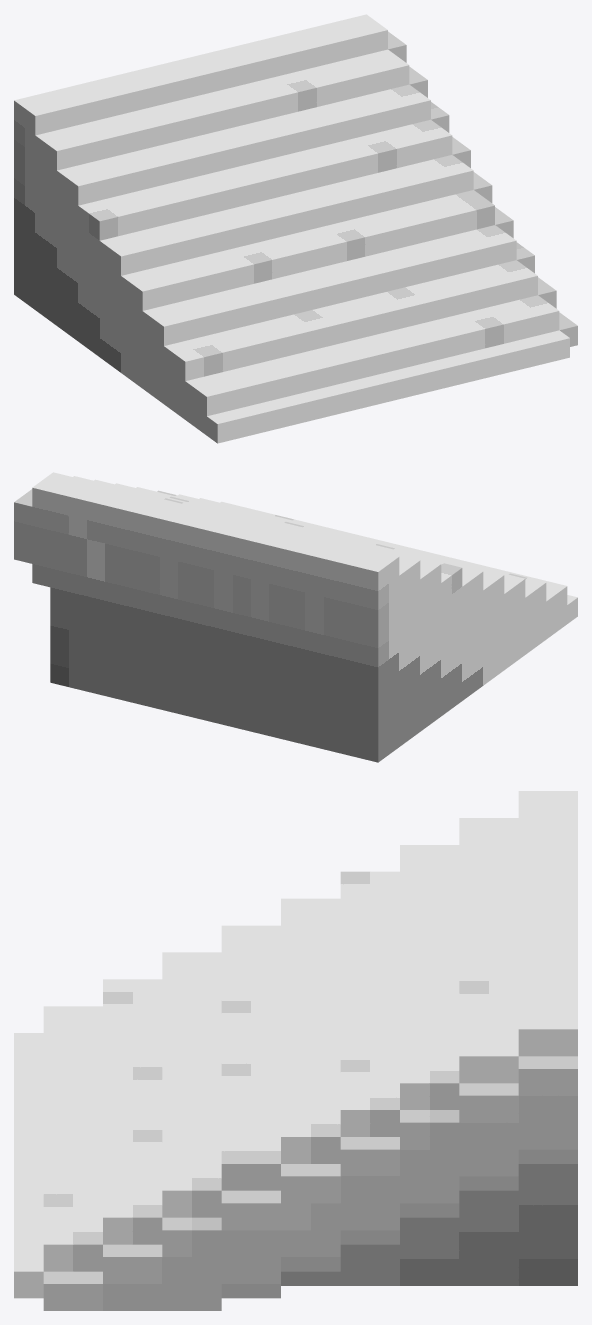
File: half_top_ramp_bot_right.glb
The picture shows the model from 3 angles, top to bottom: view 1: azimuth 30°, elevation 25°; view 2: azimuth 150°, elevation 25°; view 3: azimuth 270°, elevation 25°; orthographic projection. The views are drawn at different scales.
Parts seen in each view (by area): view 1: half_top_ramp_bot_right; view 2: half_top_ramp_bot_right; view 3: half_top_ramp_bot_right.
Part boxes in pixels (x1,y1,x2,y2): half_top_ramp_bot_right: (14,14,577,443); half_top_ramp_bot_right: (14,472,577,762); half_top_ramp_bot_right: (14,791,577,1310).
Bounding box in the file's own units: 2 × 1 × 1.9.
1 material, 1 textured.
